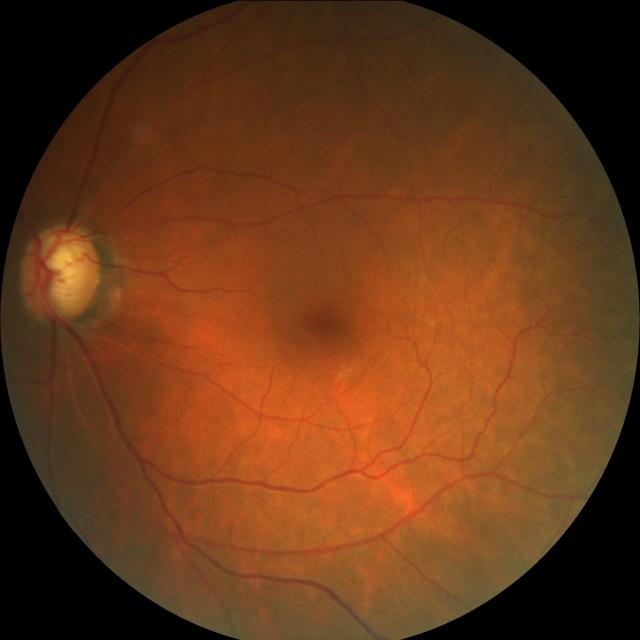OC: (33, 234, 89, 303)
OD: (22, 223, 104, 320)
